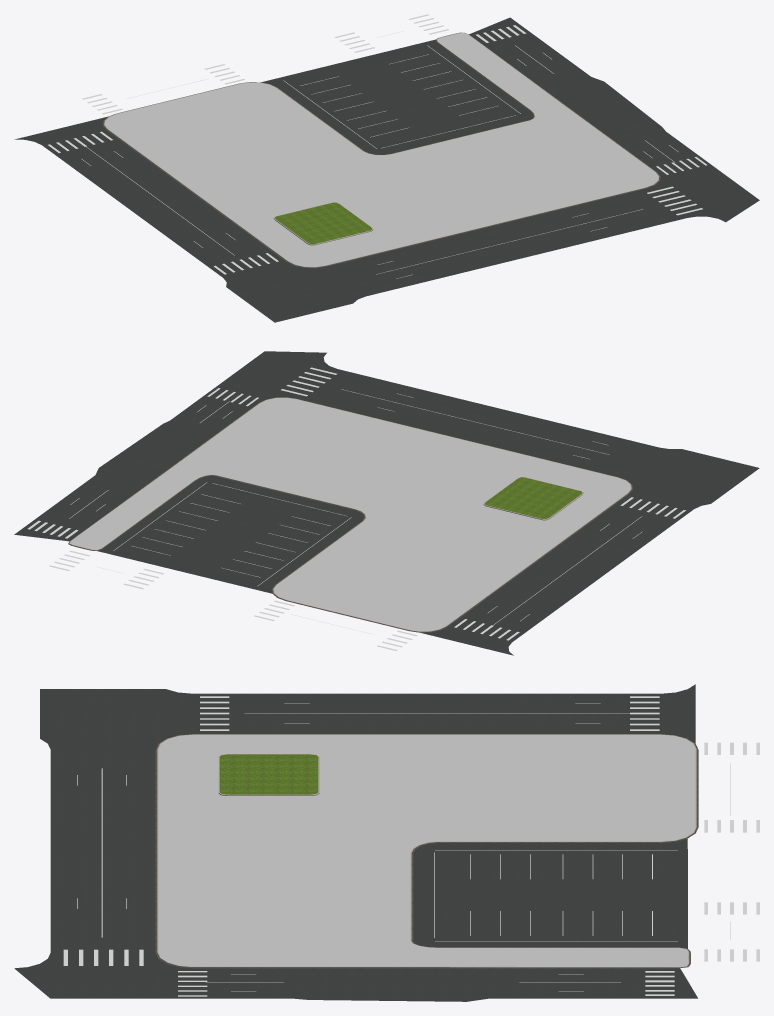
The model's file is New_Terrain_Area_16.fbx.
3 views of the same model, one above another, from view 1: azimuth 30°, elevation 25°; view 2: azimuth 150°, elevation 25°; view 3: azimuth 270°, elevation 25° (orthographic). The views are drawn at different scales.
Parts seen in each view (by area): view 1: Road_11, Area_16, Road_Alpha_37, Road_Alpha_40, Road_Alpha_46; view 2: Road_11, Area_16, Road_Alpha_37, Road_Alpha_40, Road_Alpha_46; view 3: Road_11, Area_16, Road_Alpha_37, Road_Alpha_40, Road_Alpha_46, Road_Alpha_41, Road_Alpha_38.
Boxes of the visible parts, box(x1,y1,x2,y2) form: Road_11: box(14, 17, 759, 322); Area_16: box(102, 32, 660, 268); Road_Alpha_37: box(82, 45, 520, 148); Road_Alpha_40: box(48, 131, 278, 274); Road_Alpha_46: box(376, 186, 702, 278); Road_11: box(14, 351, 759, 655); Area_16: box(68, 397, 632, 632); Road_Alpha_37: box(113, 482, 417, 650); Road_Alpha_40: box(454, 497, 685, 640); Road_Alpha_46: box(281, 367, 609, 459); Road_11: box(14, 684, 697, 1001); Area_16: box(155, 734, 698, 968); Road_Alpha_37: box(434, 742, 759, 941); Road_Alpha_40: box(200, 696, 659, 730); Road_Alpha_46: box(63, 768, 143, 965); Road_Alpha_41: box(519, 971, 674, 995); Road_Alpha_38: box(704, 902, 759, 961).
Size of the model in its own units: 10358 by 21.84 by 10276.
